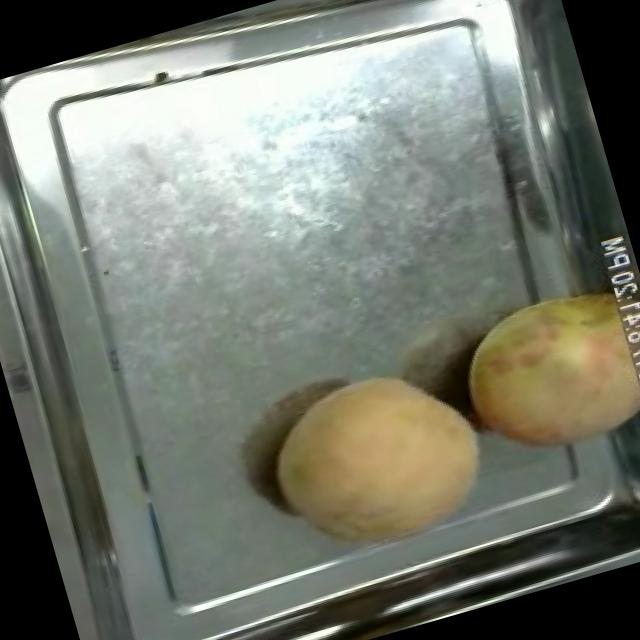Fruit: (243, 342, 510, 582), (439, 270, 640, 481)
